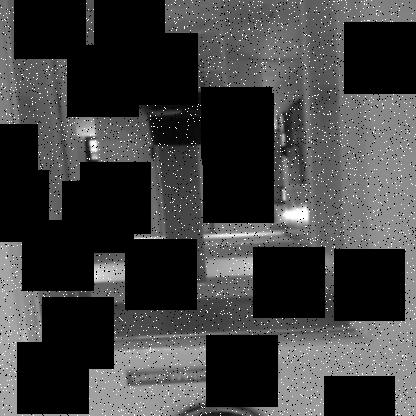Porte: (0, 1, 376, 360)
